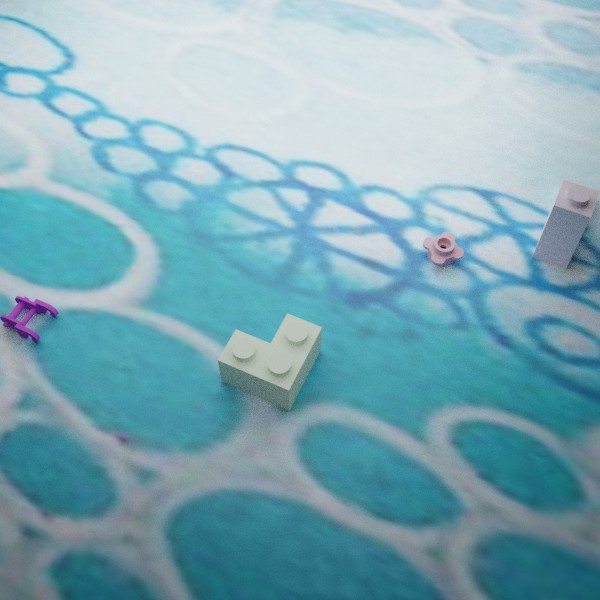lego: (217, 313, 322, 410), (532, 178, 599, 269), (0, 295, 58, 342), (422, 231, 463, 266)
